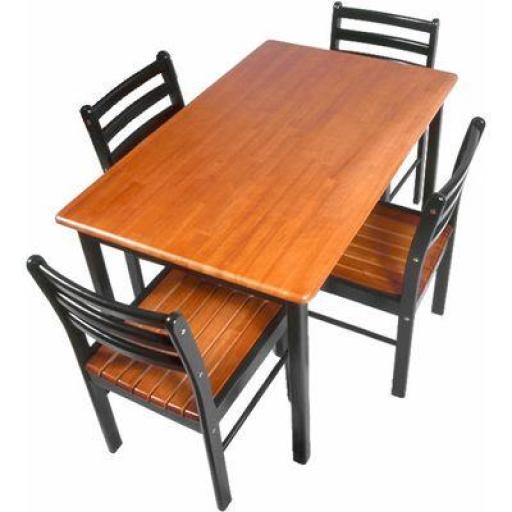table: (52, 37, 461, 431)
